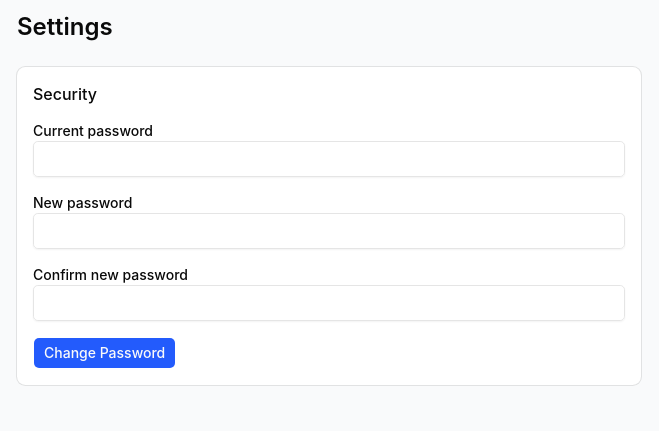
Test case: SettingsPage › clears mismatch error only when confirm password matches new password
Type "myoldpass" into the password field labelled "Current password" at (329, 159), box 33,141 -> 625,177
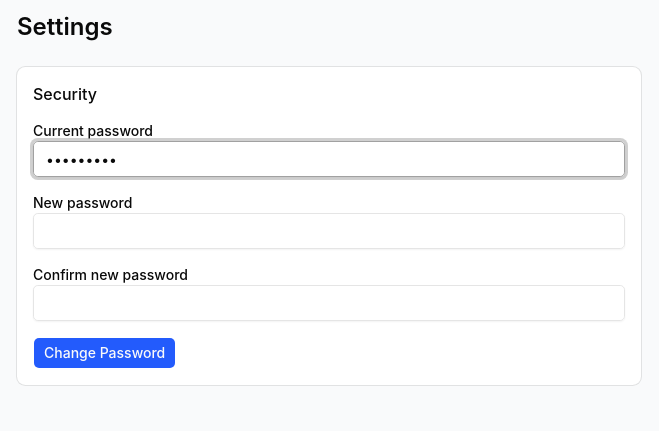
Type "newpass123" into the password field labelled "New password" at (329, 231), box 33,213 -> 625,249
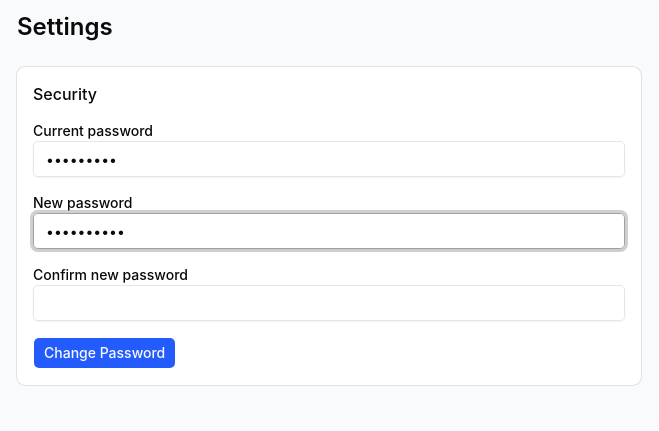
Type "different123" into the password field labelled "Confirm new password" at (329, 303), box 33,285 -> 625,321
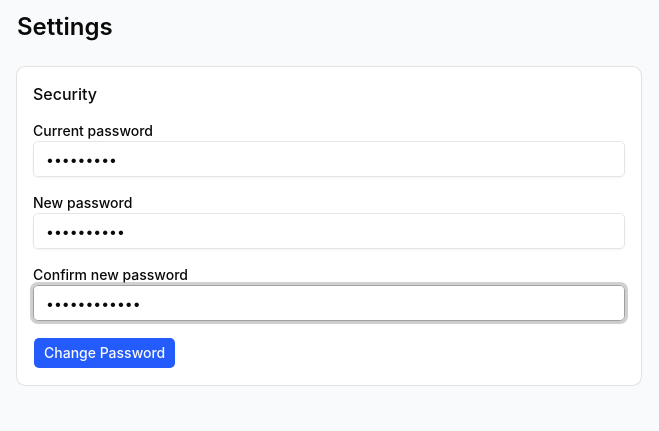
Click the button "Change Password" at (105, 353), box 33,337 -> 176,369
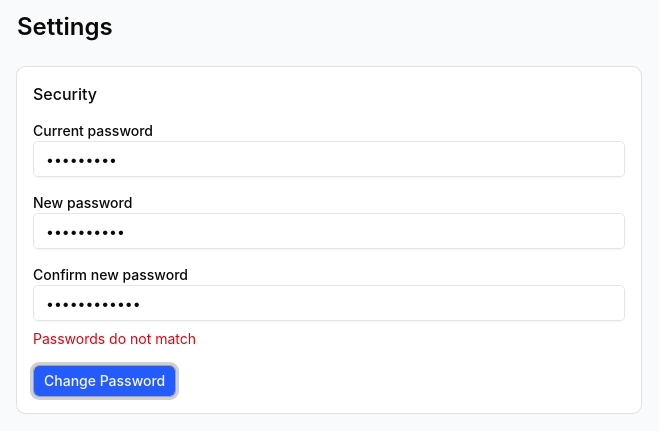
expect the message reads "Passwords do not match": met, box 33,330 -> 196,347
Partial correction — error should remain while values still differ
Type "newpass" into the password field labelled "Confirm new password" at (329, 303), box 33,285 -> 625,321
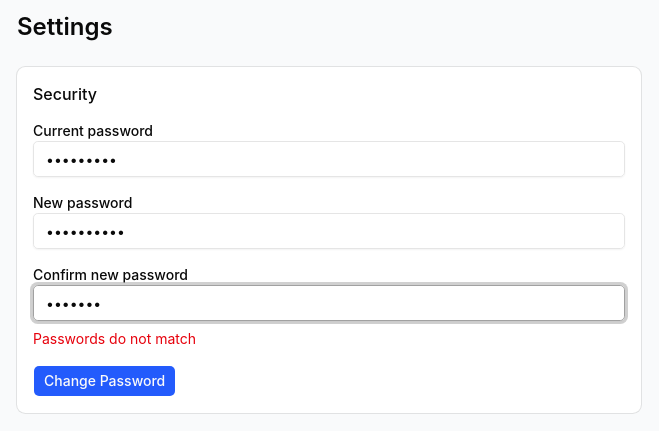
expect the message reads "Passwords do not match": met, box 33,330 -> 196,347
Full match — error should clear when confirm equals new password
Type "newpass123" into the password field labelled "Confirm new password" at (329, 303), box 33,285 -> 625,321
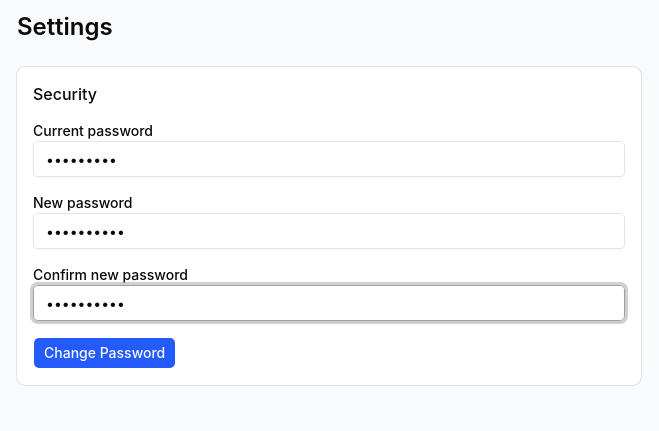
expect the message "Passwords do not match" is gone: met
